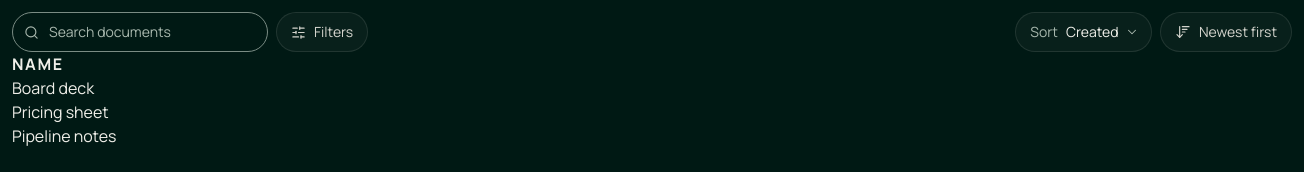
Test: ListControls › applies a filter chip from the Filters panel and records it in the URL at once
Click the button "Filters": (322, 32) [276,12,368,52]
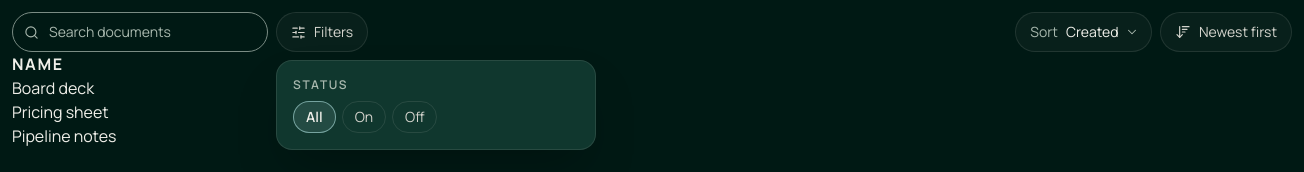
Click the button "Off": (415, 117) [392,101,438,133]
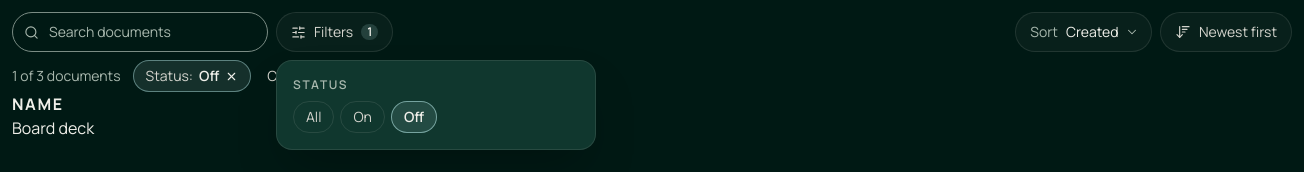
Check: the button with aria-label "Filters, 1 on" is shown, box [276,12,393,52]
